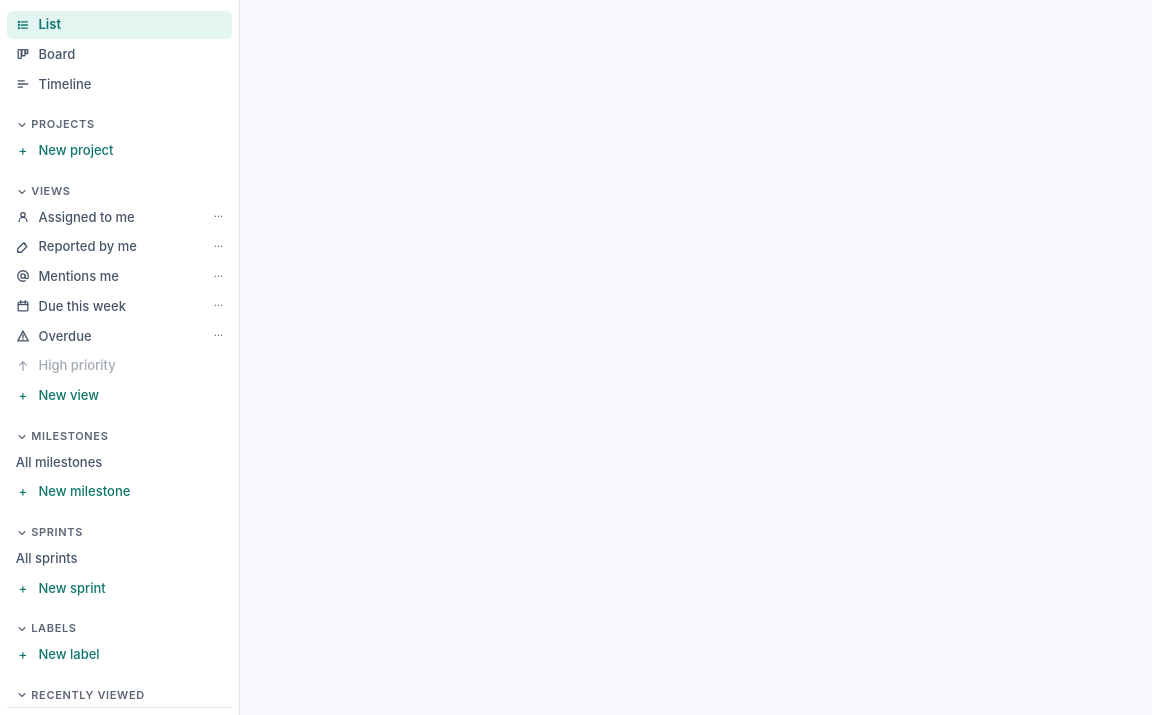
Scenario: Sidebar groups customization (SHL-45) › opens the create-view dialog from the enabled + New filter entry
Check: the button "Projects" is shown, box [7,112,232,135]
What coordinates should you click on to do the following:
click the button with test id "sidebar-new-filter"
I would click on:
 (120, 395)
Its box is [7,381,232,409].
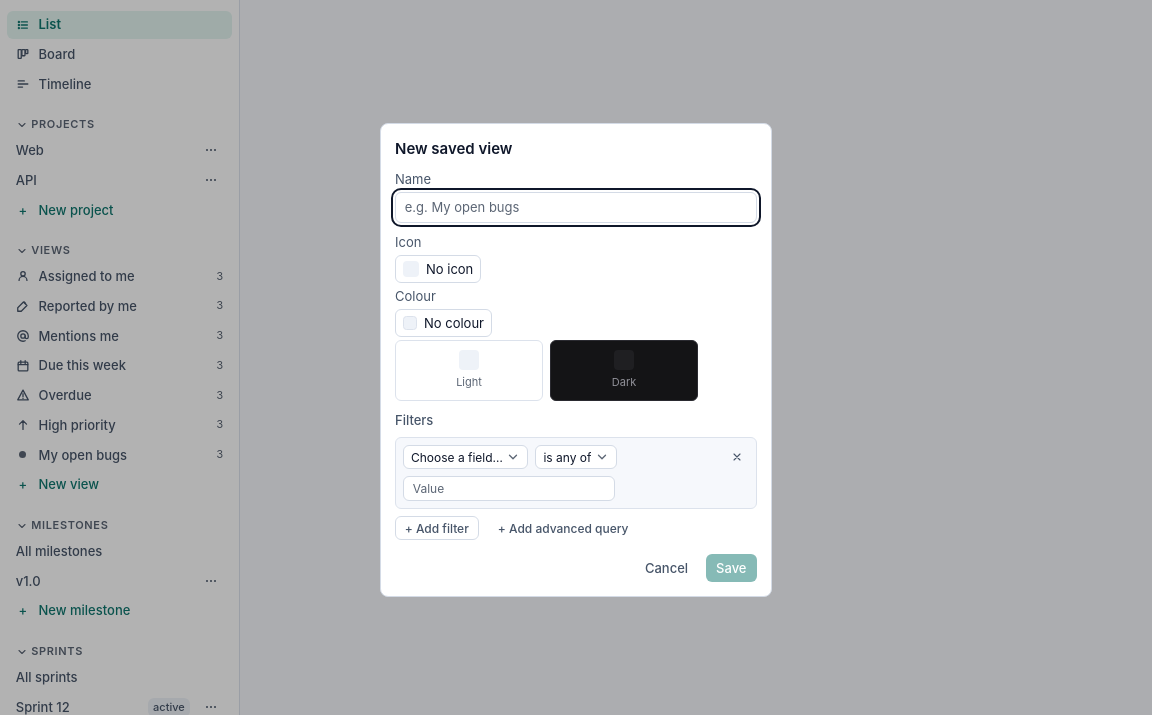
Check: the element with test id "view-create-dialog" is shown, box [395,170,757,582]
Check: the button with test id "view-filter-field-0" is shown, box [403,445,528,469]
